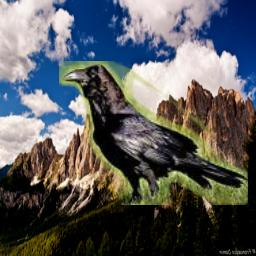Crow: (59, 61, 248, 205)
